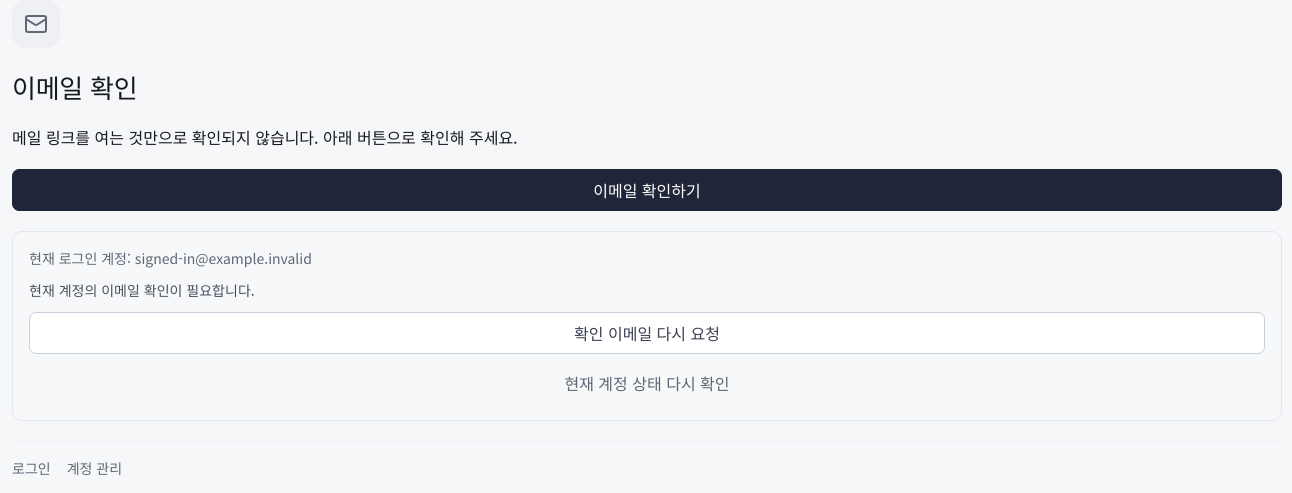
it: keeps confirmed-link success even if refreshing a different pending signed-in account fails
What coordinates should you click on to do the following:
click the button "이메일 확인하기"
I would click on:
 (647, 190)
Its box is [12,169,1282,211].
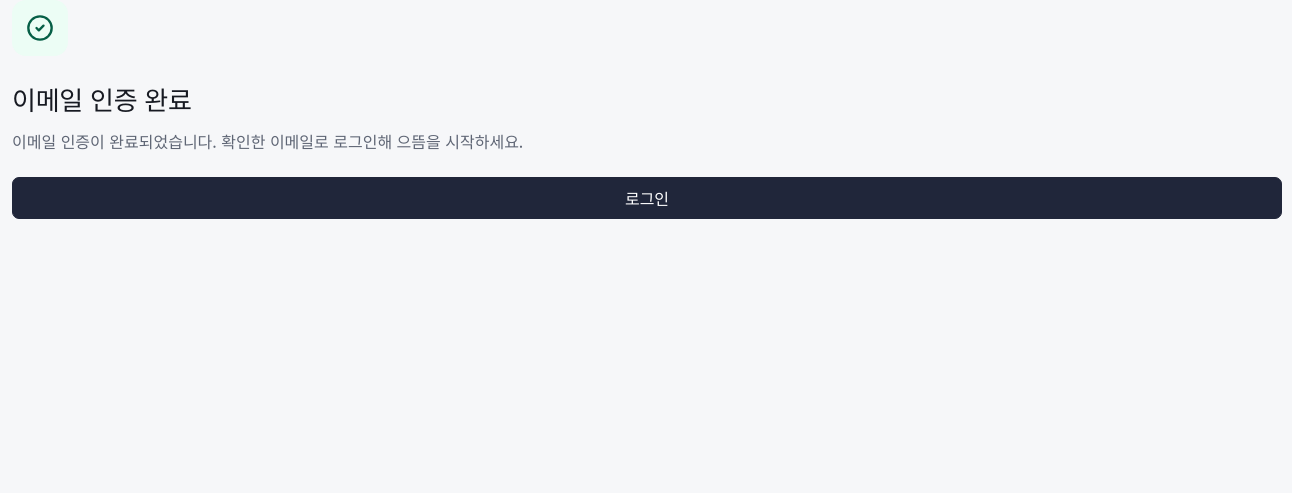
Now the heading "이메일 인증 완료" is shown, box [12,80,192,117]
Now the number of links is 1, box [12,177,1282,219]
Now the button "이메일 확인하기" is gone
